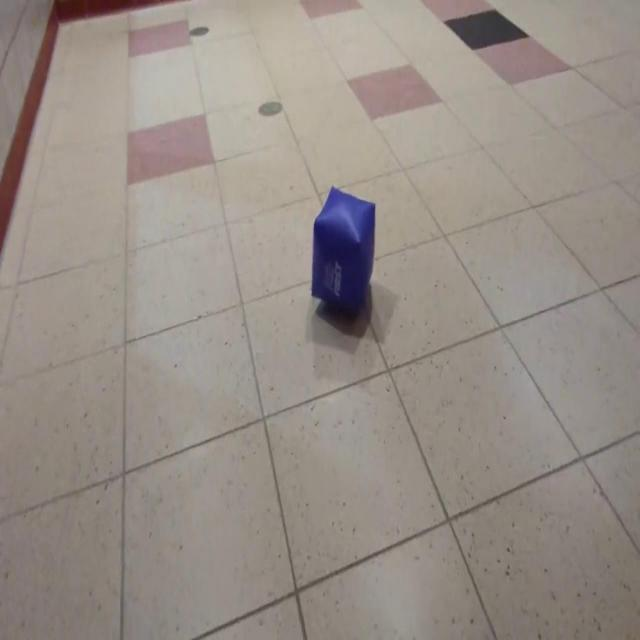frc_cube: (310, 184, 378, 324)
